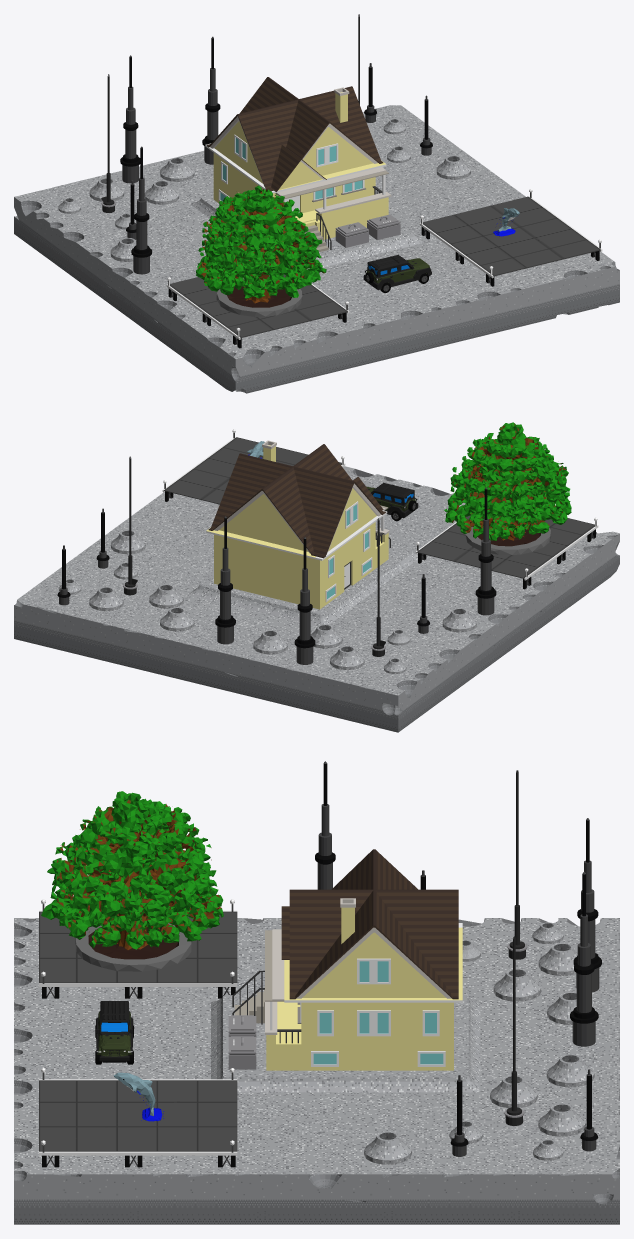
3 renders of one model, top to bottom at view 1: azimuth 30°, elevation 25°; view 2: azimuth 150°, elevation 25°; view 3: azimuth 270°, elevation 25°, orthographic. The views are drawn at different scales.
Parts seen in each view (by area): view 1: Cube.027, Cube.1555, OBJRANDOM_CEIBA, Cube.026, Cube.025, Cube.028, VEHICLES_JEEP, Cylinder.021, Cylinder.020, Cylinder.017, Cube.029, Cube.030 (+5 smaller); view 2: Cube.027, Cube.1555, OBJRANDOM_CEIBA, Cube.025, Cube.028, Cube.026, Cylinder.020, Cylinder.021, Cylinder.017, VEHICLES_JEEP, Cylinder.030, Cylinder.027 (+8 smaller); view 3: Cube.027, Cube.1555, OBJRANDOM_CEIBA, Cube.026, Cube.028, Cube.025, Cylinder.017, VEHICLES_JEEP, Cylinder.021, Cylinder.020, Cylinder.033, Cylinder.031 (+12 smaller).
Boxes of the visible parts, x1,y1,x2,y2 form: Cube.027: (14,105,619,393); Cube.1555: (205,77,391,252); OBJRANDOM_CEIBA: (196,185,326,316); Cube.026: (419,189,602,286); Cube.025: (166,274,349,348); Cube.028: (191,194,423,269); VEHICLES_JEEP: (363,254,431,293); Cylinder.021: (131,146,151,274); Cylinder.020: (120,55,140,183); Cylinder.017: (202,36,220,164); Cube.029: (335,222,368,247); Cube.030: (367,214,400,240); Cube.027: (14,466,619,732); Cube.1555: (206,440,390,609); OBJRANDOM_CEIBA: (444,422,571,554); Cube.025: (415,515,598,589); Cube.028: (189,544,417,626); Cube.026: (162,429,345,504); Cylinder.020: (294,537,315,664); Cylinder.021: (475,487,496,615); Cylinder.017: (215,516,235,644); VEHICLES_JEEP: (366,482,418,521); Cylinder.030: (149,584,183,608); Cylinder.027: (253,630,287,654); Cube.027: (14,918,619,1224); Cube.1555: (232,849,462,1070); OBJRANDOM_CEIBA: (41,791,223,971); Cube.026: (39,1068,237,1167); Cube.028: (211,995,480,1092); Cube.025: (39,899,237,998); Cylinder.017: (570,871,598,1046); VEHICLES_JEEP: (95,1001,133,1064); Cylinder.021: (315,761,335,889); Cylinder.020: (573,818,601,992); Cylinder.033: (364,1131,411,1164); Cylinder.031: (538,1103,585,1136).
Bounding box in the file's own units: 4000 × 1807 × 4000.
Materials: 36 (4 with a texture image).
